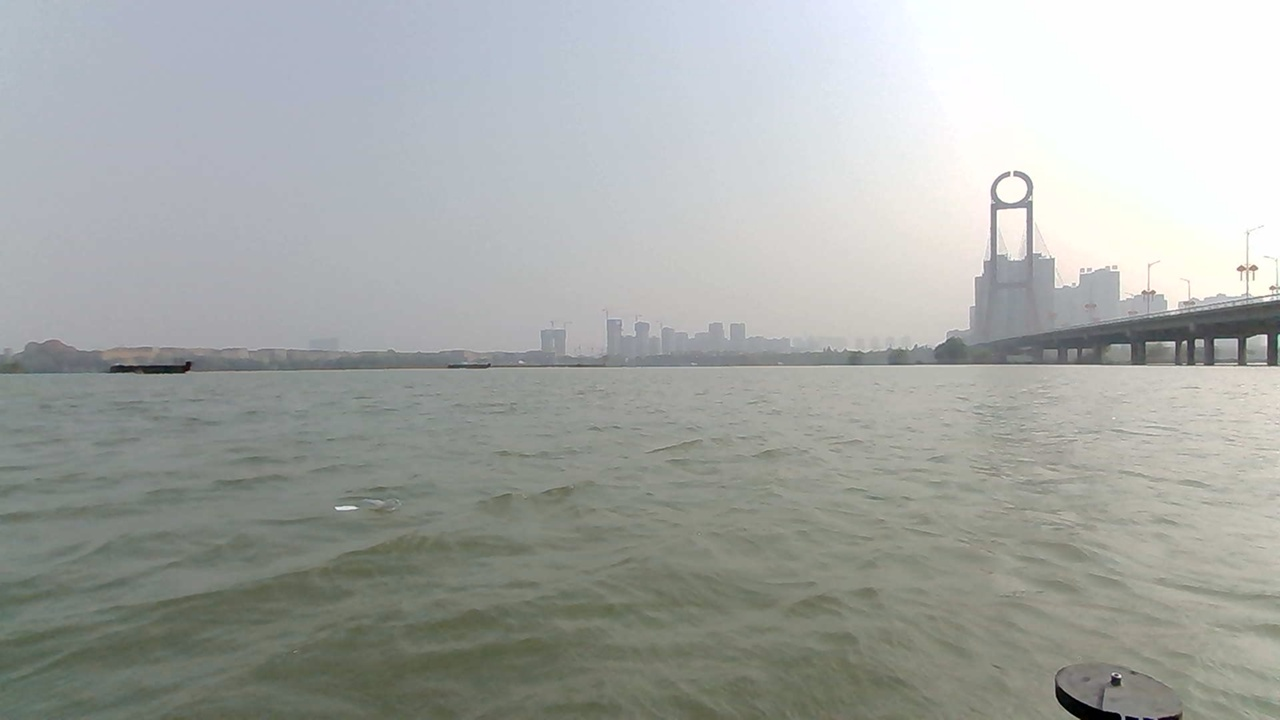bottle: (317, 479, 447, 535)
